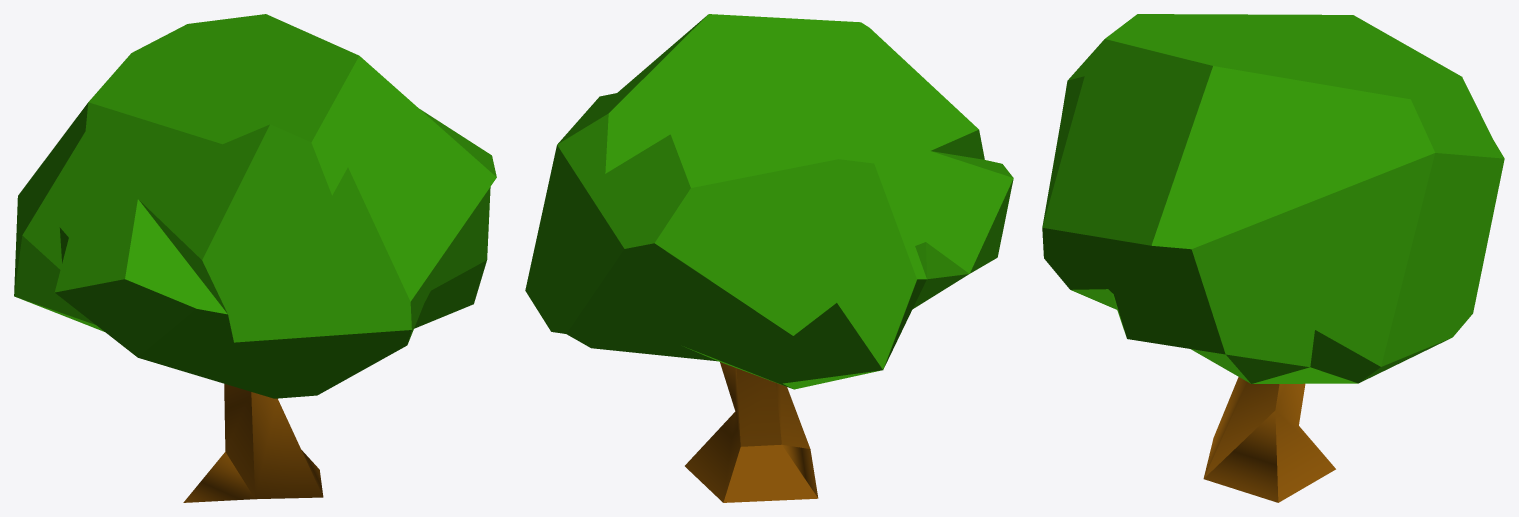
The model's file is LowerPolyTree.fbx.
The picture shows the model from 3 angles, left to right: view 1: azimuth 30°, elevation 25°; view 2: azimuth 150°, elevation 25°; view 3: azimuth 270°, elevation 25°; orthographic projection. The views are drawn at different scales.
Visible parts, largest first — view 1: Leaves, Trunk; view 2: Leaves, Trunk; view 3: Leaves, Trunk.
Part boxes in pixels (x1=…): Leaves: x1=14, y1=14, x2=496, y2=398; Trunk: x1=183, y1=384, x2=323, y2=502; Leaves: x1=525, y1=14, x2=1013, y2=389; Trunk: x1=685, y1=362, x2=818, y2=502; Leaves: x1=1042, y1=14, x2=1504, y2=383; Trunk: x1=1203, y1=377, x2=1335, y2=502.
Size of the model in its own units: 1669 by 1662 by 1580.
